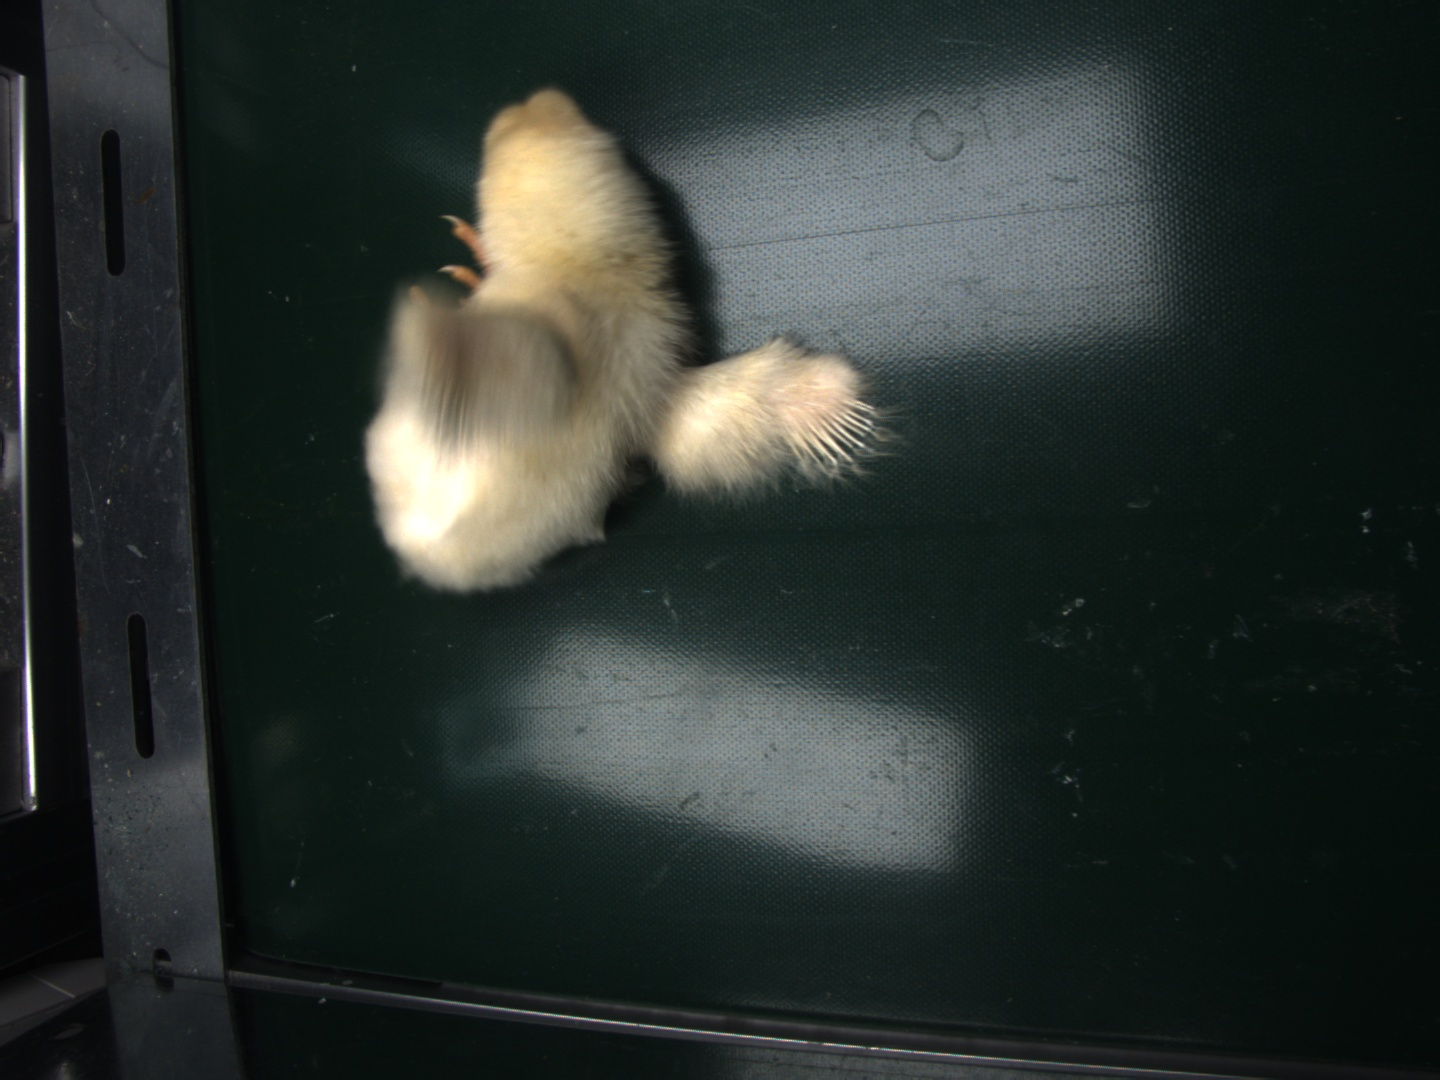male: (790, 391, 878, 473)
